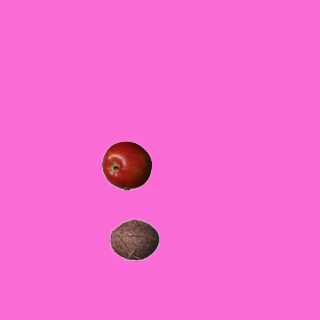Apple Braeburn: (101, 140, 151, 190)
Cocos: (109, 214, 159, 264)
